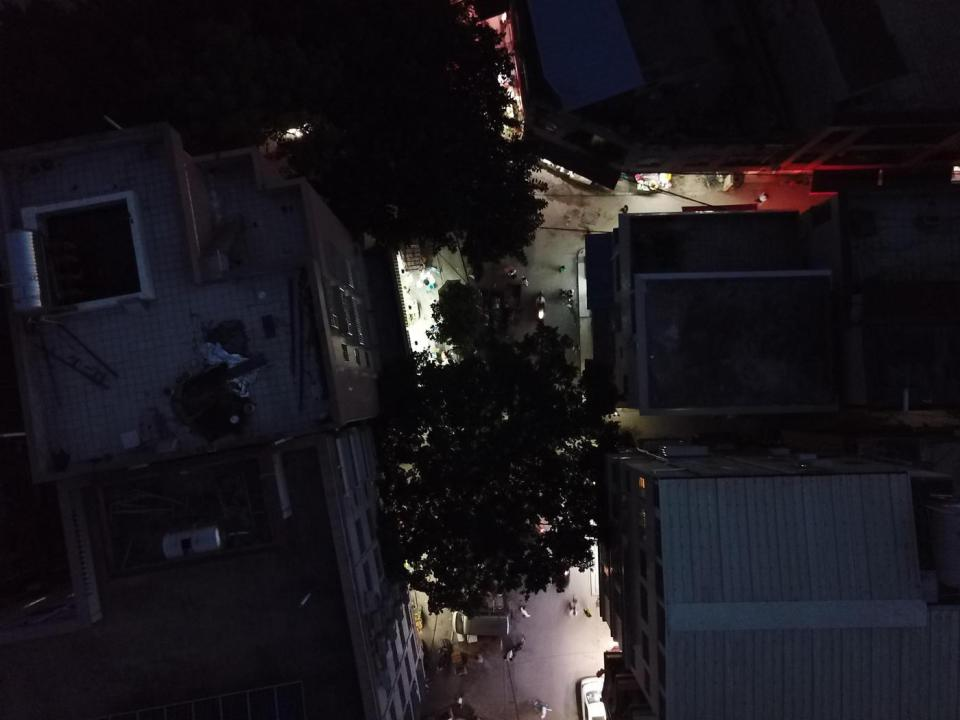car: (580, 676, 614, 720)
van: (451, 608, 512, 637)
